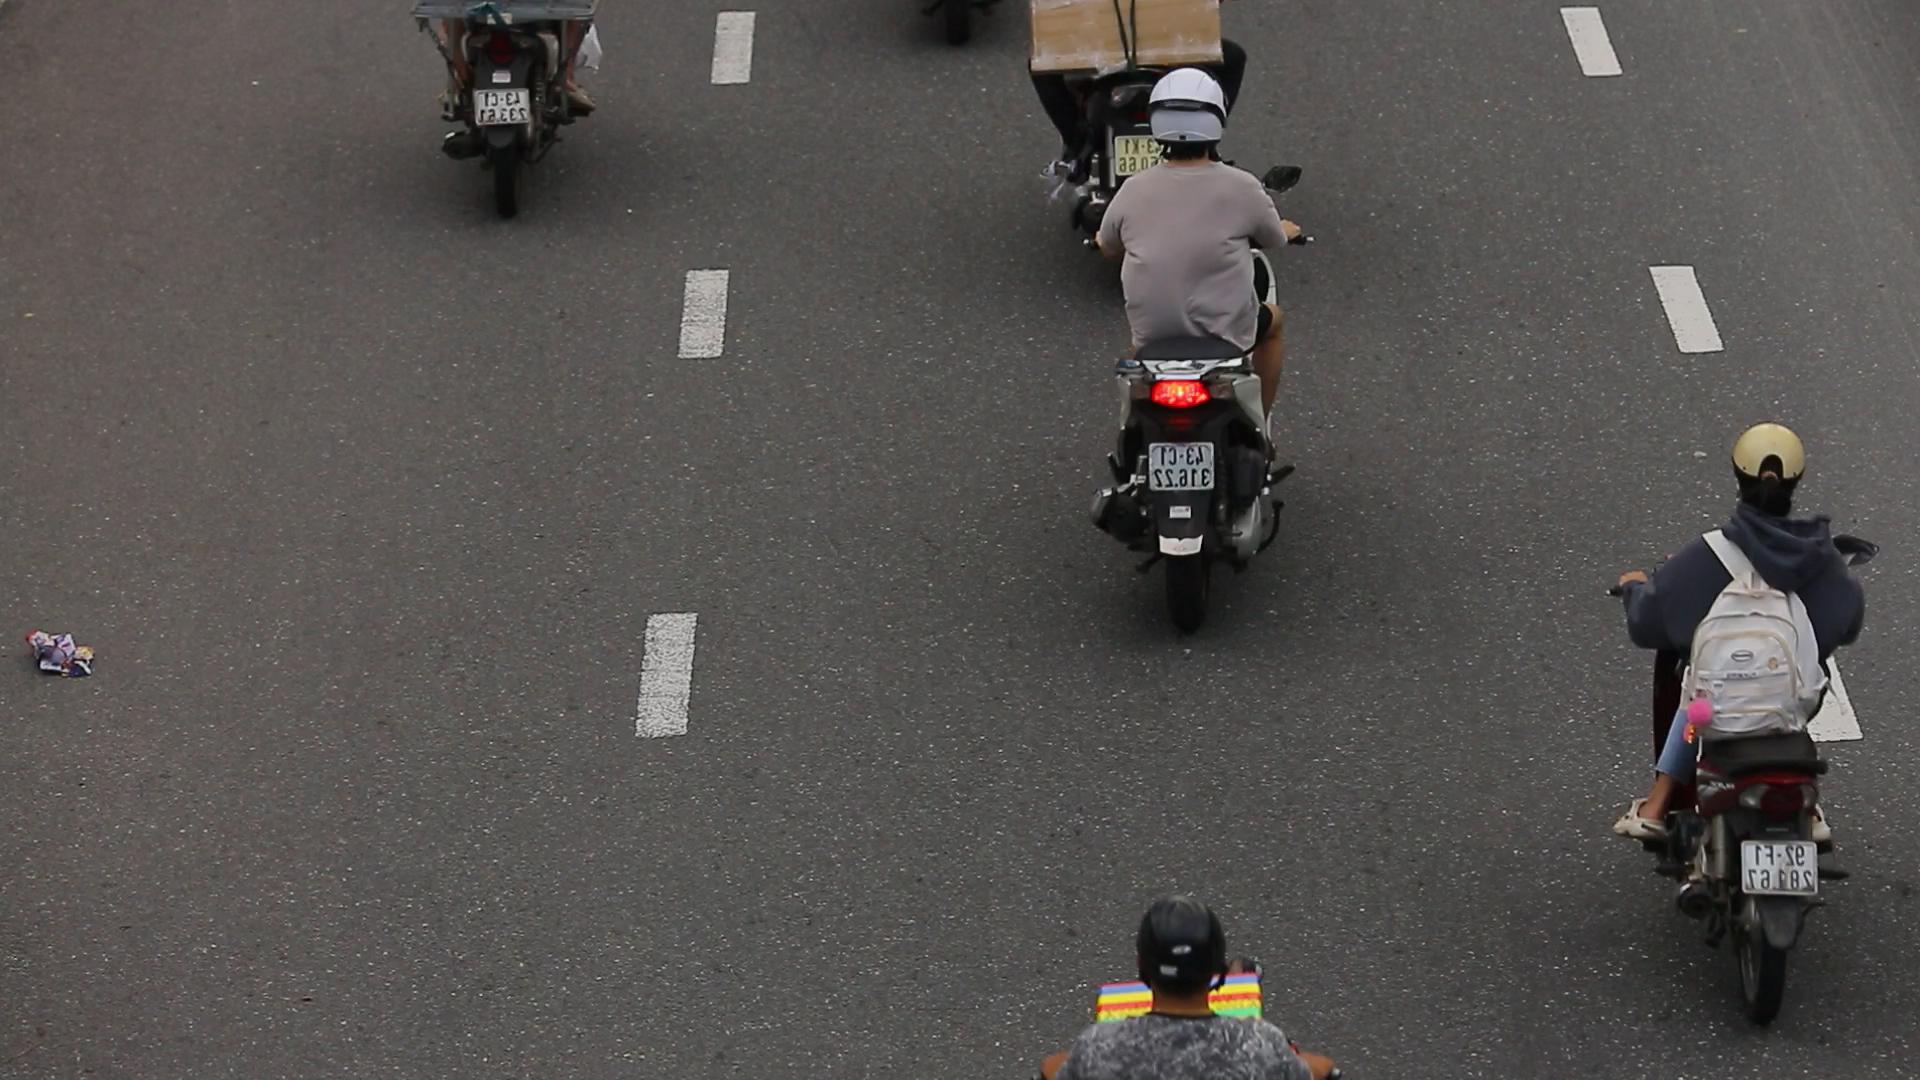motobike: (1610, 413, 1896, 1025), (1073, 54, 1320, 641)
